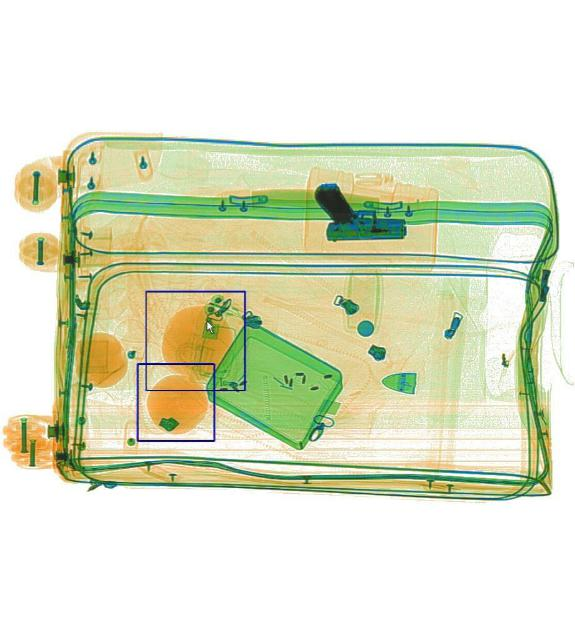Gun: (311, 180, 403, 242)
